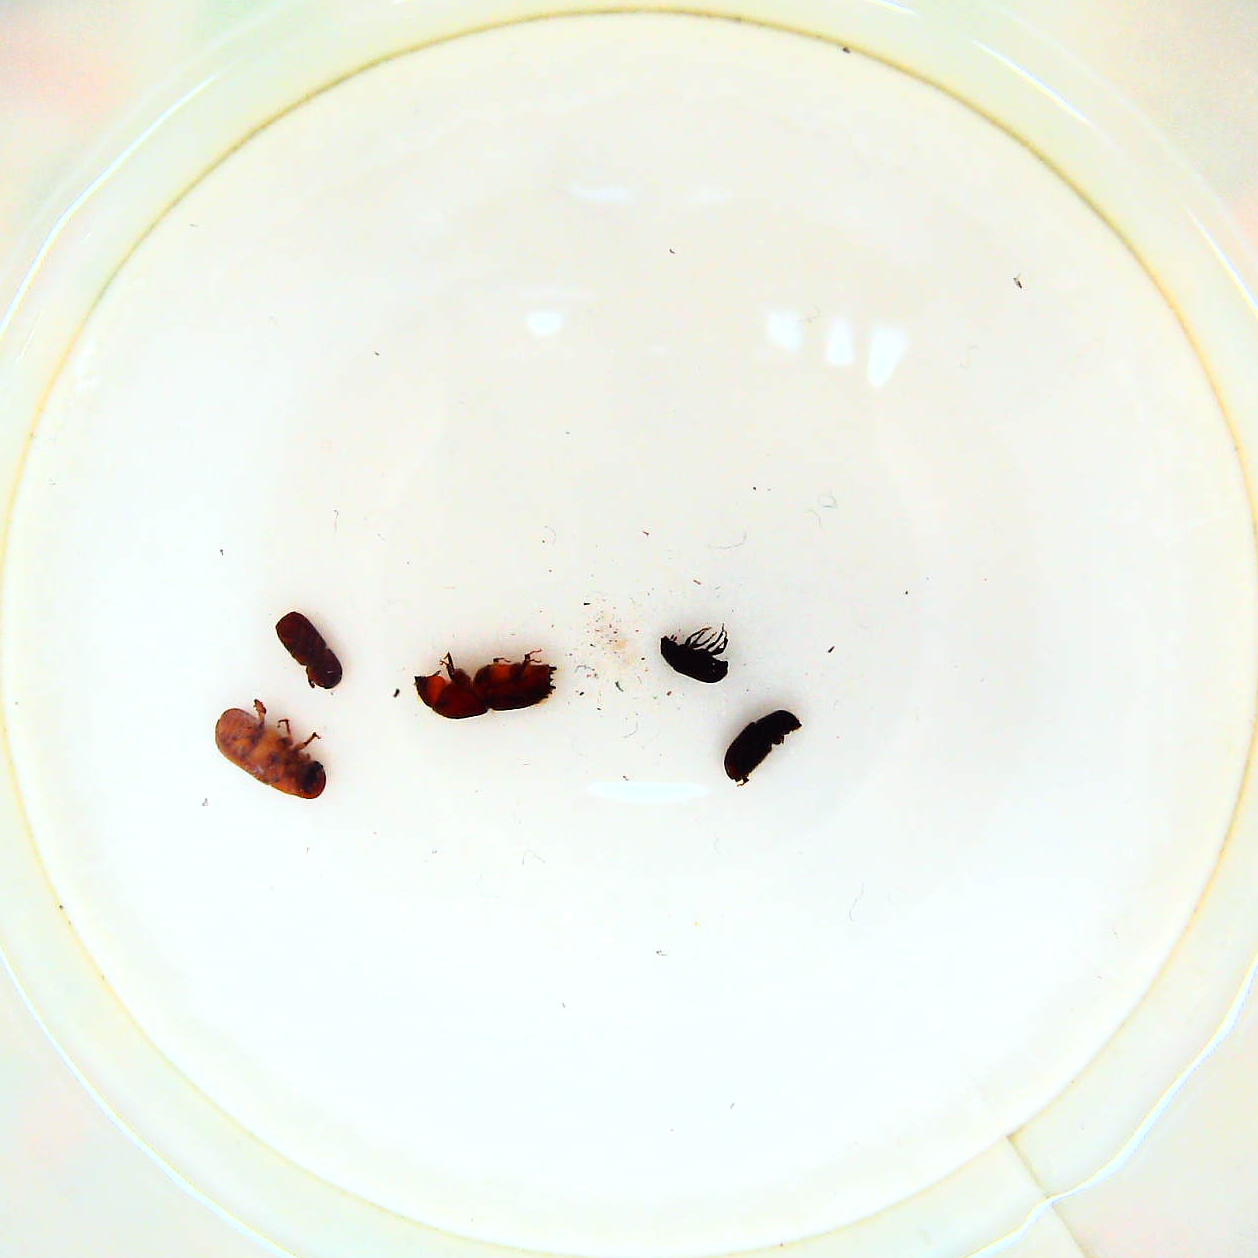Boerner: (408, 644, 564, 727)
Leconte: (209, 700, 329, 802)
armandi: (715, 712, 805, 785)
coleoptera: (657, 622, 732, 690)
linnaeus: (266, 607, 342, 695)
